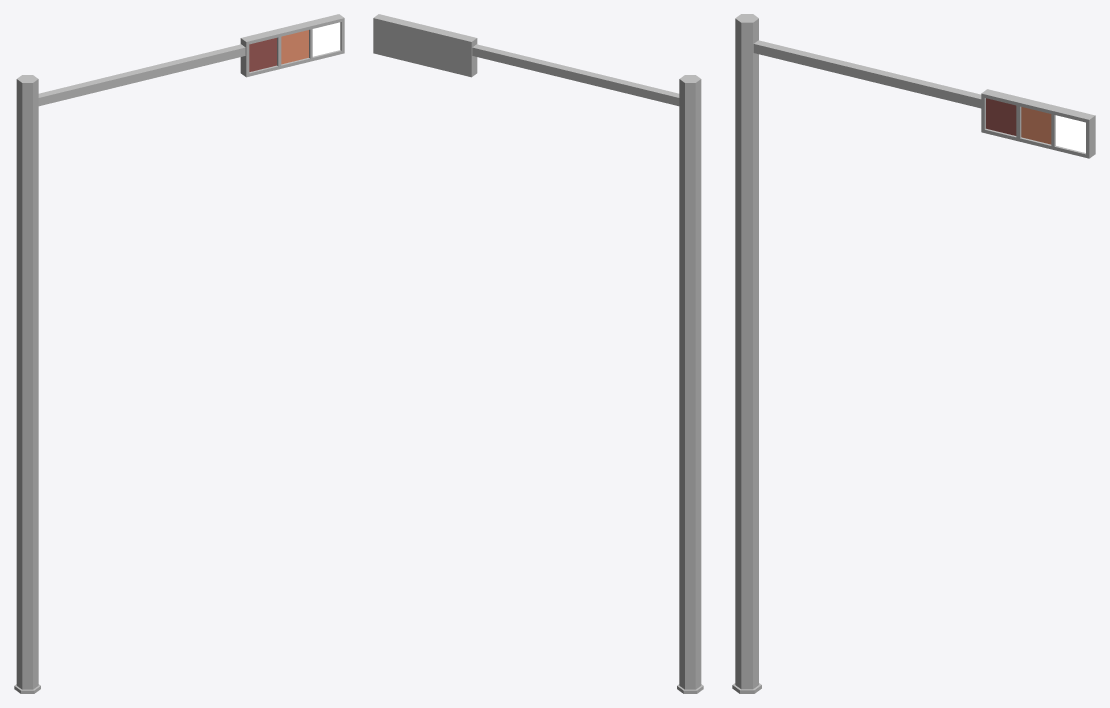
The model's file is car_light_green.fbx.
3 views of the same model, side by side, from view 1: azimuth 30°, elevation 25°; view 2: azimuth 150°, elevation 25°; view 3: azimuth 330°, elevation 25° (orthographic). The views are drawn at different scales.
Parts seen in each view (by area): view 1: car_light_green; view 2: car_light_green; view 3: car_light_green.
Part boxes in pixels (x1=…): car_light_green: x1=14, y1=14, x2=344, y2=693; car_light_green: x1=373, y1=14, x2=703, y2=693; car_light_green: x1=732, y1=14, x2=1095, y2=693.
Size of the model in its own units: 214 by 385 by 15.28.
